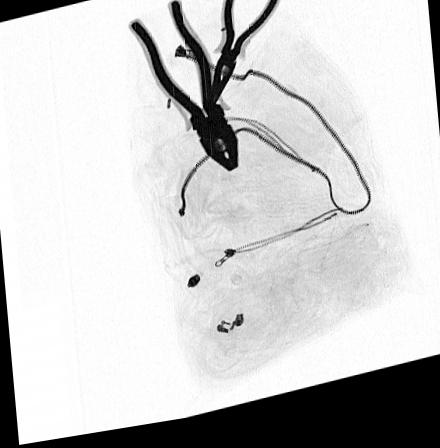Pliers: (126, 4, 241, 184), (206, 0, 283, 112)
